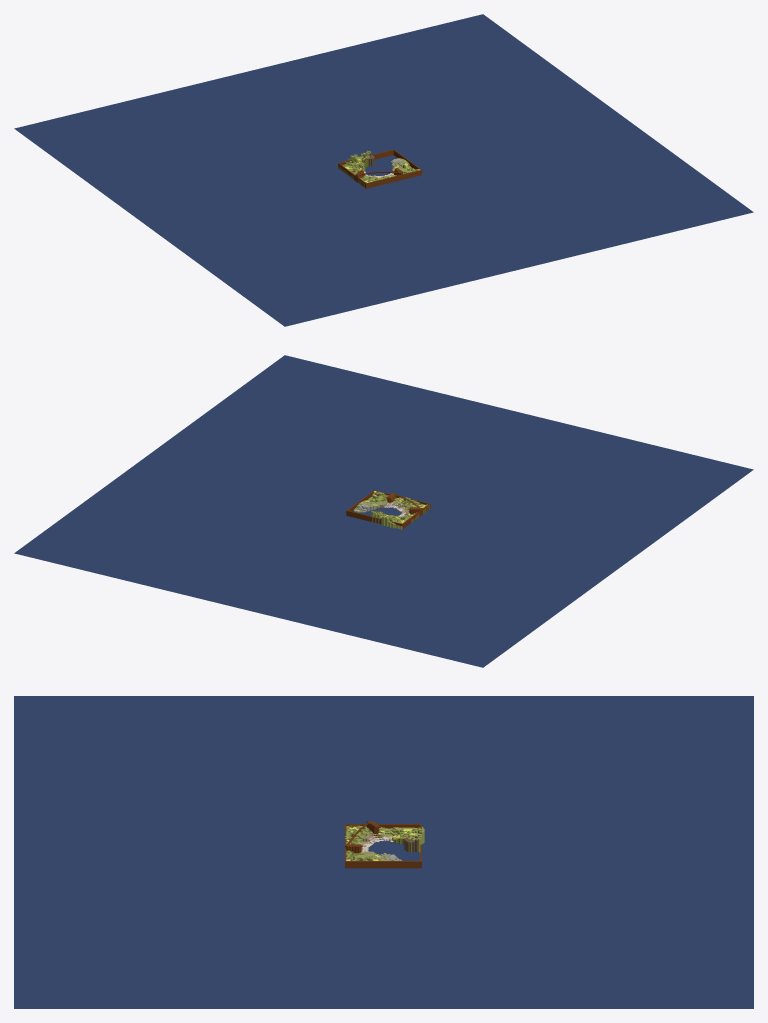
File: finallevel_v2.fbx
3 renders of one model, top to bottom at view 1: azimuth 30°, elevation 25°; view 2: azimuth 150°, elevation 25°; view 3: azimuth 270°, elevation 25°, orthographic. The views are drawn at different scales.
Visible parts, largest first — view 1: pasted__pPlane1, polySurface1; view 2: pasted__pPlane1, polySurface1; view 3: pasted__pPlane1, polySurface1, pasted__pasted__pCube1.
Part boxes in pixels (left/top/right/bottom): pasted__pPlane1: left=14, top=14, right=753, bottom=326; polySurface1: left=337, top=150, right=419, bottom=187; pasted__pPlane1: left=14, top=355, right=753, bottom=667; polySurface1: left=353, top=491, right=429, bottom=529; pasted__pPlane1: left=14, top=696, right=753, bottom=1008; polySurface1: left=345, top=825, right=424, bottom=860; pasted__pasted__pCube1: left=345, top=861, right=421, bottom=868.
Size of the model in its own units: 192 by 10.32 by 192.
